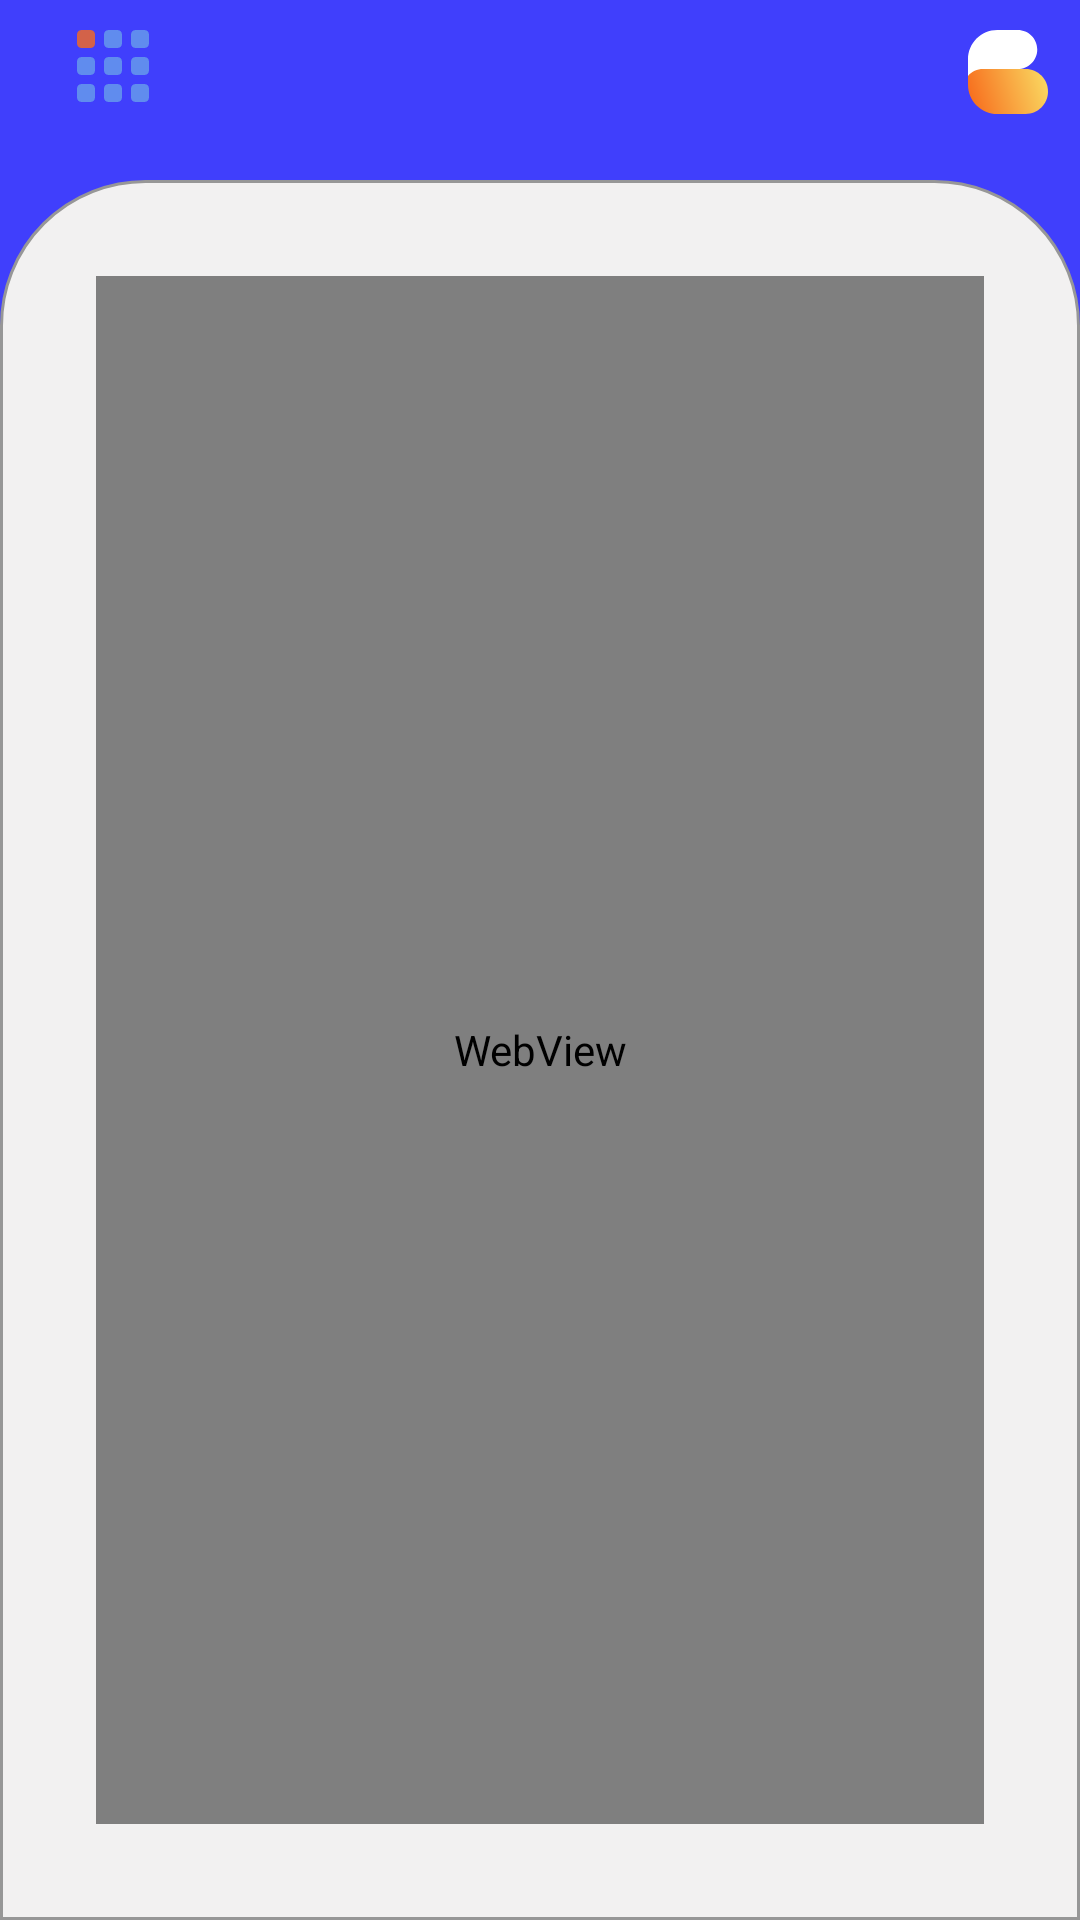

Point at icon controls on the screen. Image size 1080x1920, points as (x,y).
grid: (113,66)
